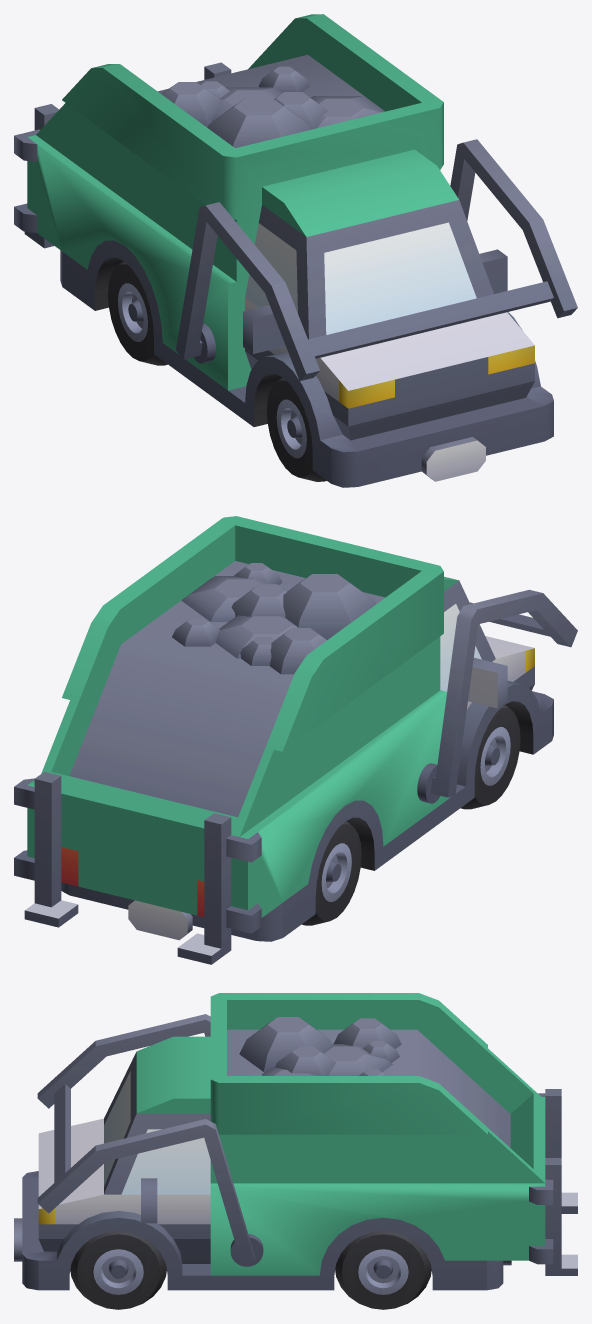
Rendered from garbage-truck1.glb.
3 renders of one model, top to bottom at view 1: azimuth 30°, elevation 25°; view 2: azimuth 150°, elevation 25°; view 3: azimuth 270°, elevation 25°, orthographic. The views are drawn at different scales.
Visible parts, largest first — view 1: body, body.001, arm, trash, wheel-back-right, wheel-front-right; view 2: body.001, body, trash, arm, wheel-front-right, wheel-back-right; view 3: body.001, body, arm, trash, wheel-front-left, wheel-back-left.
Part boxes in pixels (x1,y1,x2,y2): body: (14, 54, 553, 487); body.001: (27, 14, 458, 390); arm: (176, 139, 577, 380); trash: (161, 66, 385, 148); wheel-back-right: (108, 261, 167, 365); wheel-front-right: (266, 377, 326, 481); body.001: (27, 516, 458, 917); body: (14, 561, 553, 964); trash: (172, 563, 376, 674); arm: (417, 589, 577, 803); wheel-front-right: (461, 704, 520, 809); wheel-back-right: (302, 821, 361, 925); body.001: (136, 993, 545, 1275); body: (14, 1029, 577, 1290); arm: (37, 1014, 263, 1266); trash: (239, 1017, 401, 1075); wheel-front-left: (70, 1231, 166, 1309); wheel-back-left: (335, 1231, 431, 1309).
Size of the model in its own units: 1.6 by 1.6 by 3.45.
Materials: 2 (1 with a texture image).
